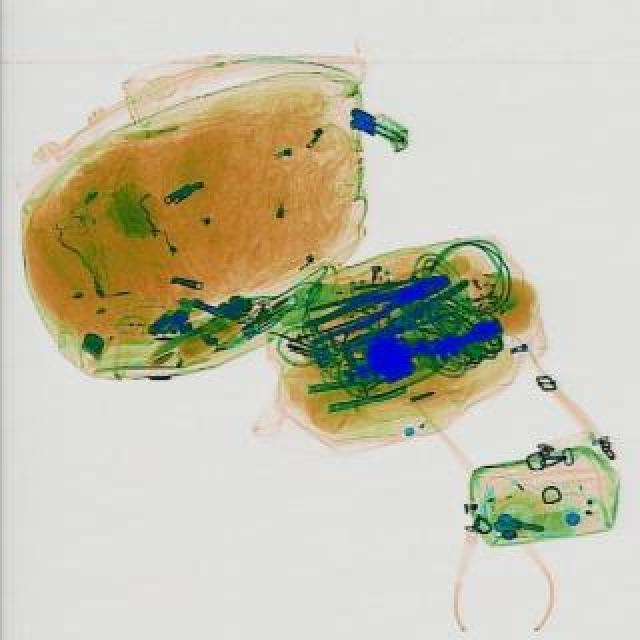wrench: (302, 264, 454, 344)
